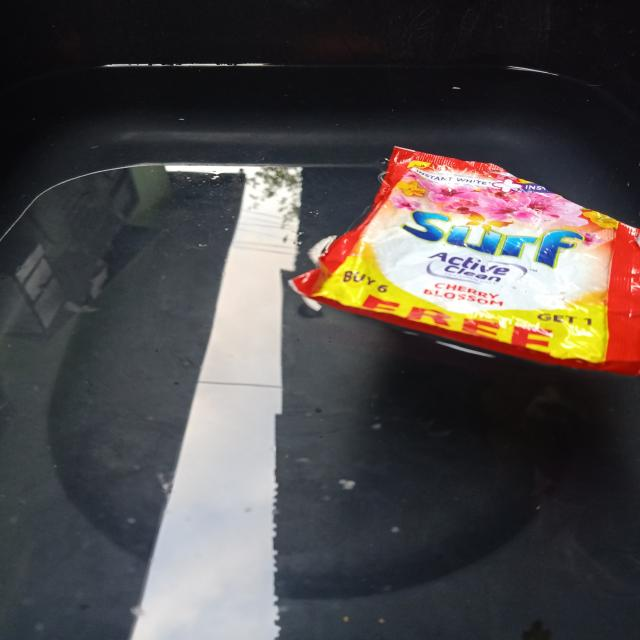Plastic Wrapper: (293, 147, 640, 374)
